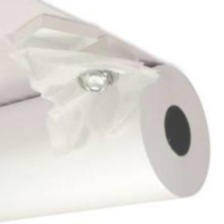tissue: (0, 58, 215, 224), (0, 37, 166, 163), (3, 10, 104, 64)
